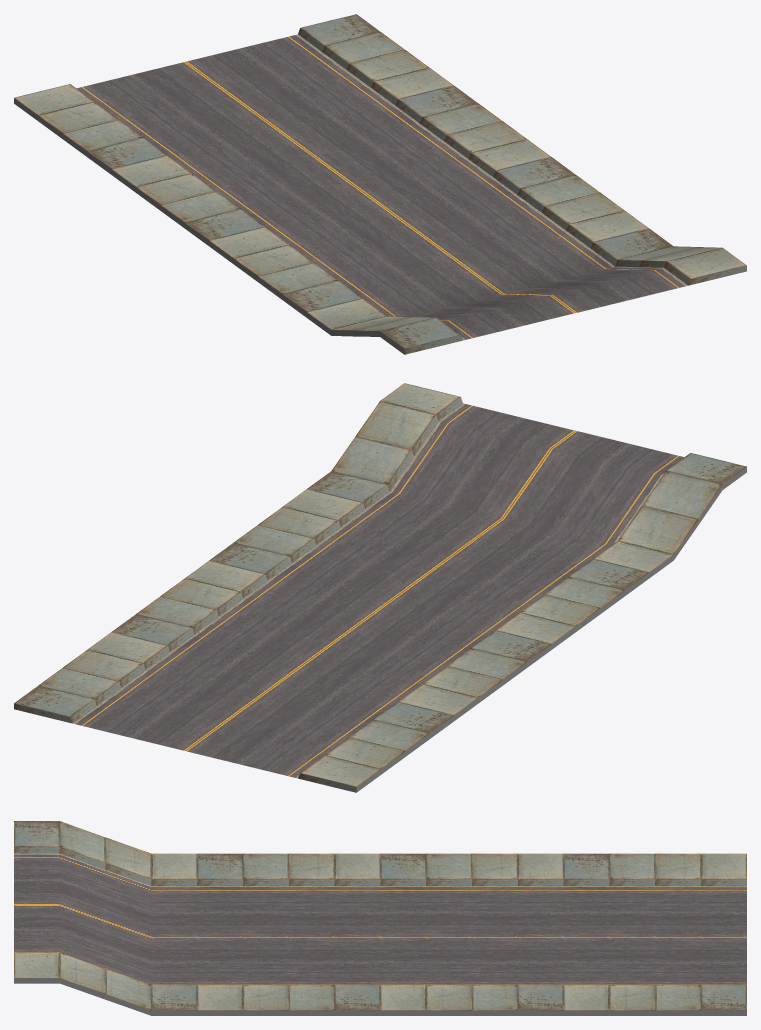
Rendered from longSlope2.FBX.
3 renders of one model, top to bottom at view 1: azimuth 30°, elevation 25°; view 2: azimuth 150°, elevation 25°; view 3: azimuth 270°, elevation 25°, orthographic. The views are drawn at different scales.
Parts seen in each view (by area): view 1: Plane002, Plane007, Plane005, Plane006, Plane001, Plane008, Plane003, Plane004; view 2: Plane003, Plane004, Plane007, Plane005, Plane002, Plane008, Plane001, Plane006; view 3: Plane001, Plane006, Plane008, Plane004, Plane003, Plane002, Plane005, Plane007.
Part boxes in pixels (x1,y1,x2,y2): Plane002: [381, 157, 648, 275]; Plane007: [185, 14, 453, 132]; Plane005: [283, 85, 550, 204]; Plane006: [111, 133, 379, 245]; Plane001: [209, 204, 477, 317]; Plane008: [14, 62, 282, 174]; Plane003: [478, 228, 746, 312]; Plane004: [307, 276, 574, 354]; Plane003: [307, 383, 575, 536]; Plane004: [478, 431, 746, 578]; Plane007: [14, 632, 282, 750]; Plane005: [112, 560, 379, 679]; Plane002: [209, 489, 477, 607]; Plane008: [186, 679, 453, 792]; Plane001: [381, 536, 649, 649]; Plane006: [283, 608, 551, 720]; Plane001: [197, 853, 380, 937]; Plane006: [380, 853, 563, 937]; Plane008: [563, 853, 746, 937]; Plane004: [14, 821, 197, 937]; Plane003: [14, 905, 197, 1015]; Plane002: [197, 937, 380, 1015]; Plane005: [380, 937, 563, 1015]; Plane007: [563, 937, 746, 1015].
Size of the model in its own units: 608 by 68.63 by 1200.
